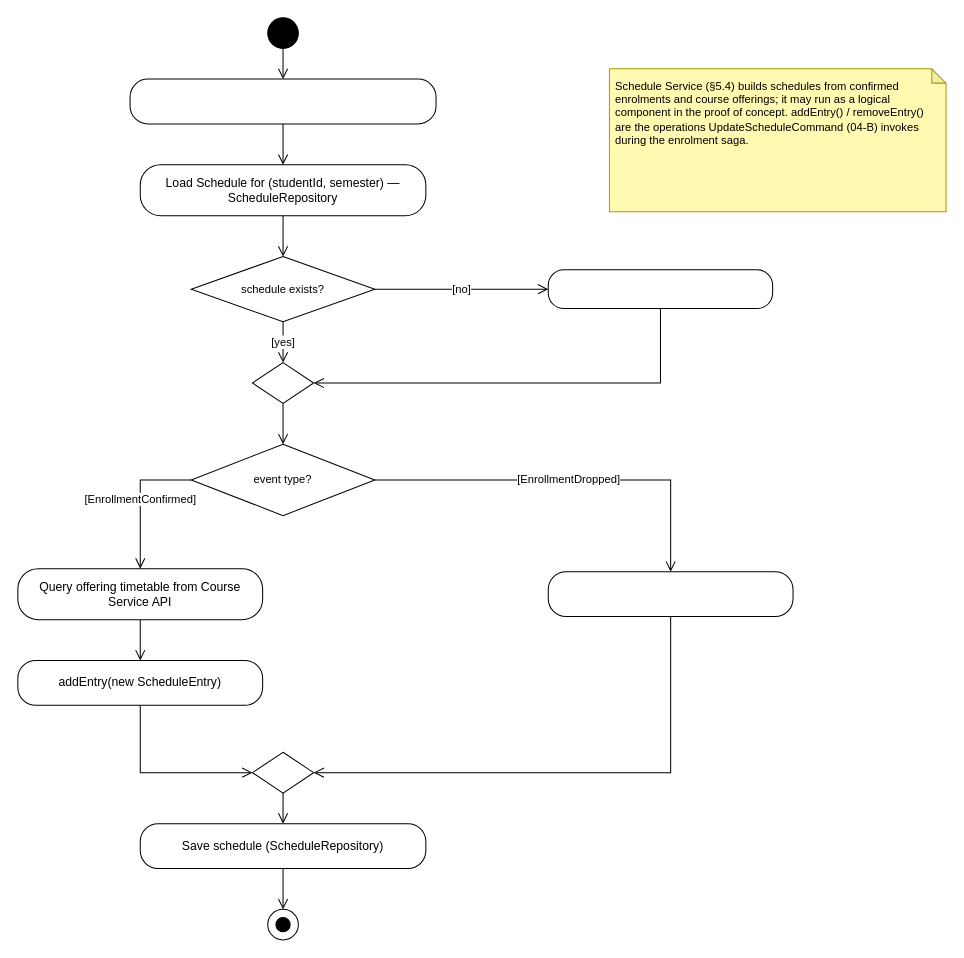
Image size: 964x958. Some labels were removed from this diagram. The box of each missing label's shape, as (x1, y1, x2, y2) in pixels:
Create new Schedule: (547, 269, 773, 309)
Receive EnrollmentConfirmed / EnrollmentDropped event: (129, 78, 436, 124)
removeEntry(matching ScheduleEntry): (547, 571, 793, 617)
